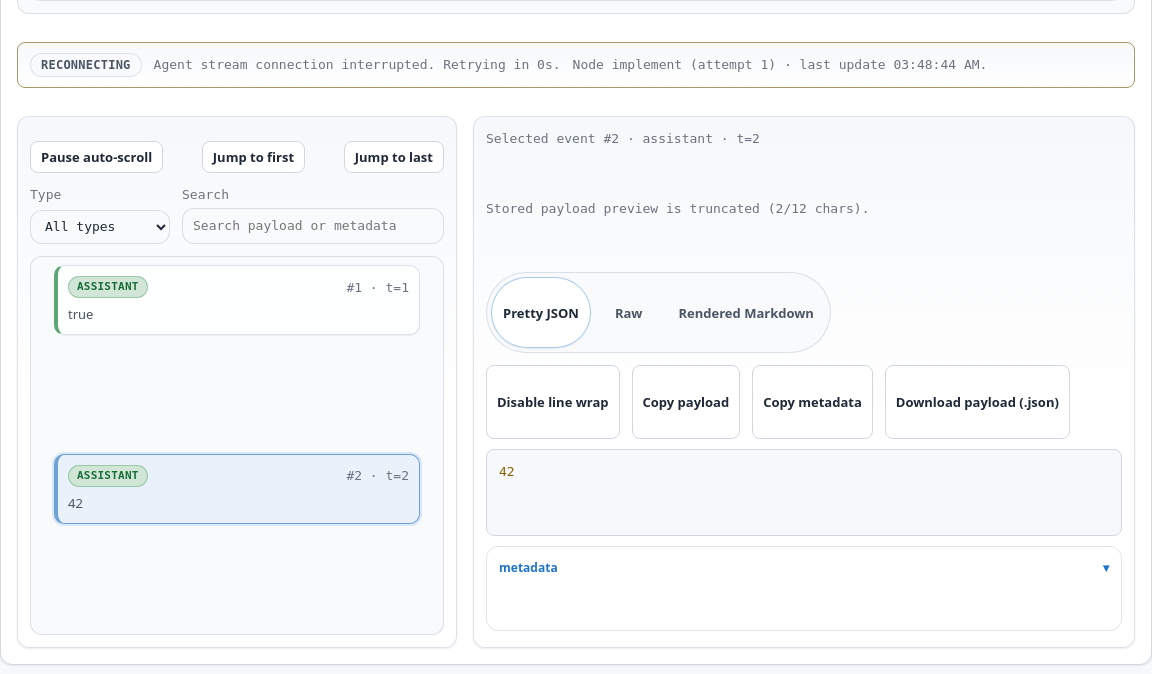
Test: RunDetailContent realtime updates › renders boolean and numeric JSON payload tokens with usage fallback values
(page scrolled)
Expected: the text "42" below "Type" is shown, [68,494,83,512]
Click the text "true": (81,314) [68,305,93,323]
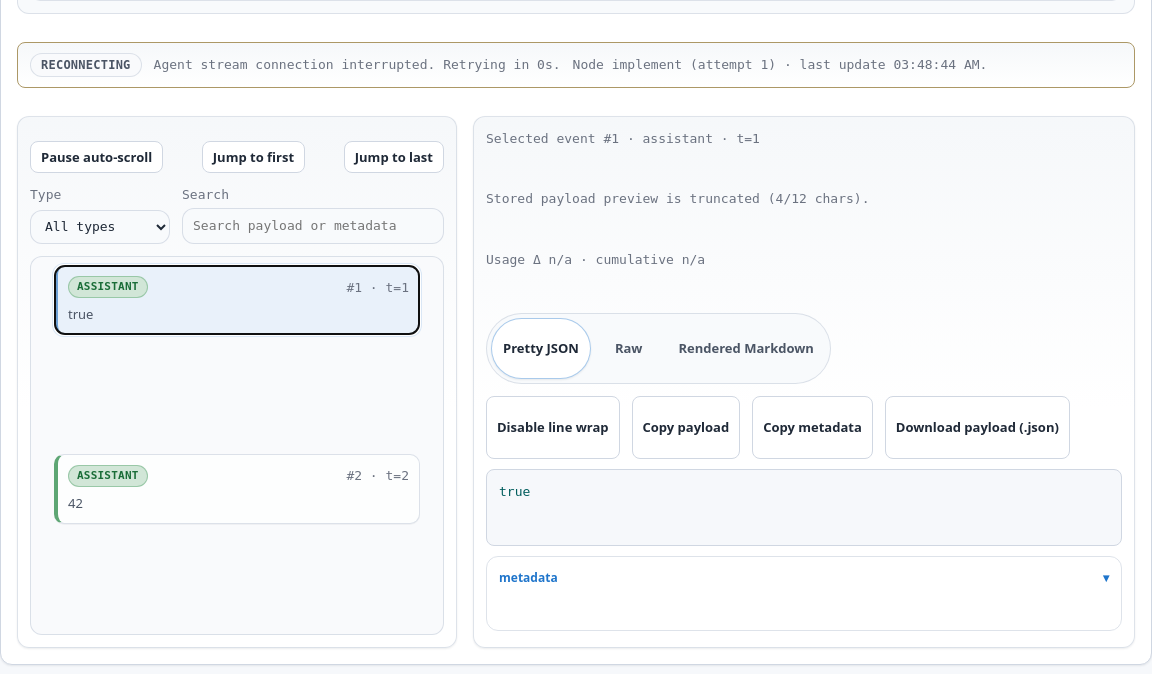
Now the text with class "run-agent-inspector-token--boolean" reads "true", box [499,484,530,499]
Now the text "Usage Δ n/a · cumulative n/a" is shown, box [486,252,705,267]
Click the text "42": (75,503) [68,494,83,512]
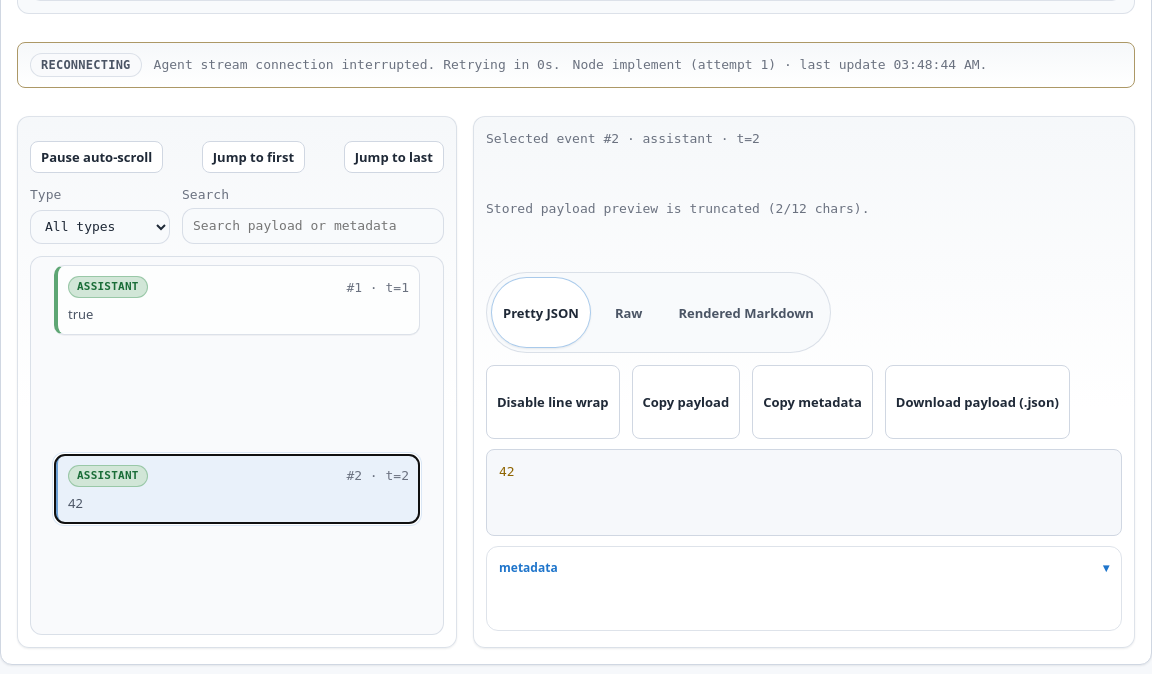
Now the text with class "run-agent-inspector-token--boolean" reads "42", box [499,464,515,479]
